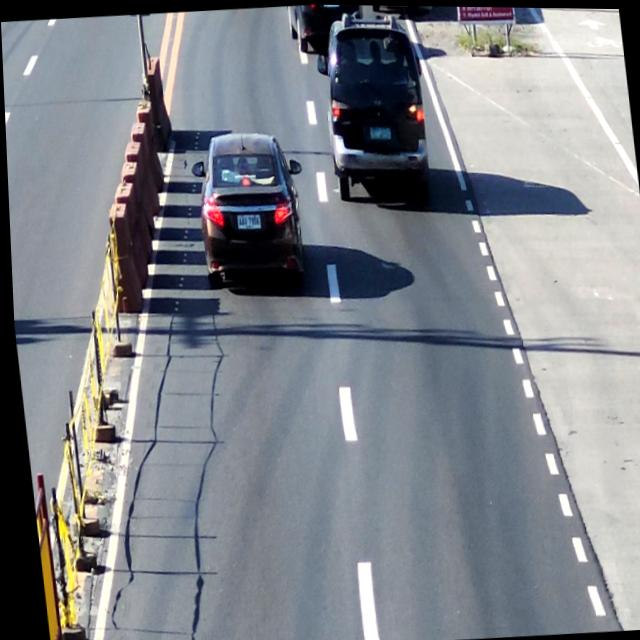Car: (185, 126, 311, 301), (317, 21, 434, 198)
License-Plate: (232, 205, 264, 233), (366, 121, 394, 146)
